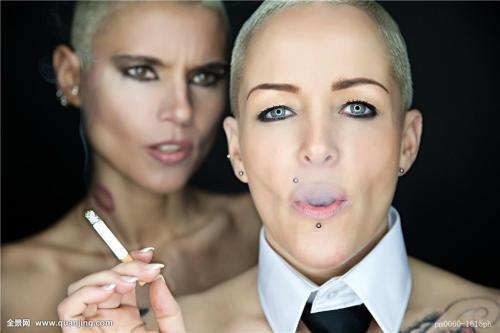smoke: (84, 208, 147, 288)
